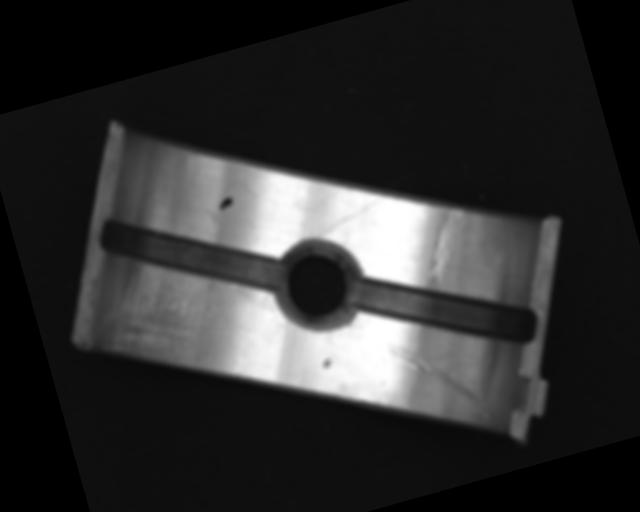blot: (216, 196, 236, 211)
bruise: (321, 357, 333, 369)
gap: (92, 178, 285, 328), (348, 237, 545, 383)
hole: (265, 229, 370, 338)
nick: (387, 327, 491, 443), (411, 204, 481, 290), (309, 194, 396, 239)
scratch: (82, 250, 237, 405)
